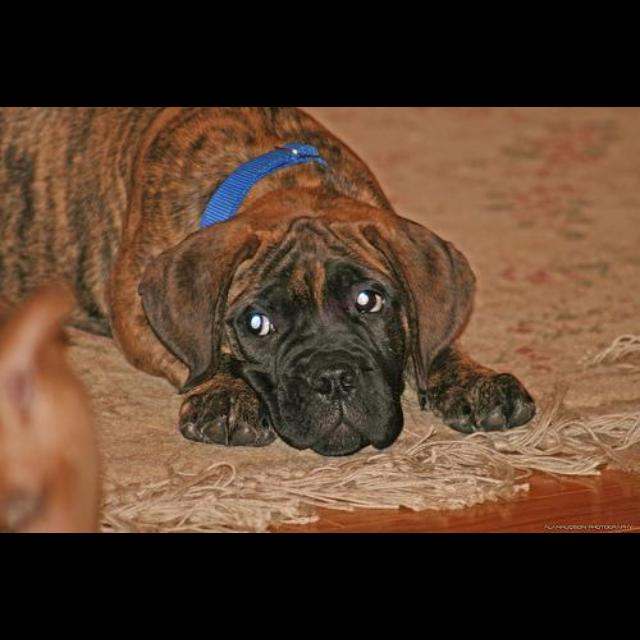bullmastiff: (1, 109, 537, 458)
